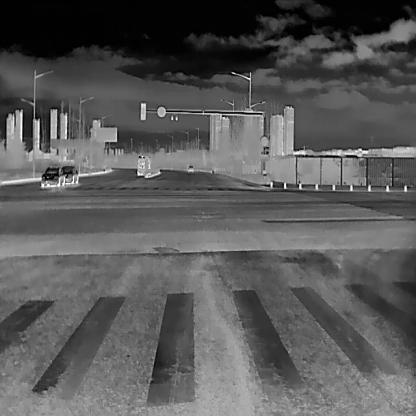car: (40, 164, 64, 187), (60, 164, 78, 184), (186, 164, 194, 172)
truck: (136, 155, 150, 175)
